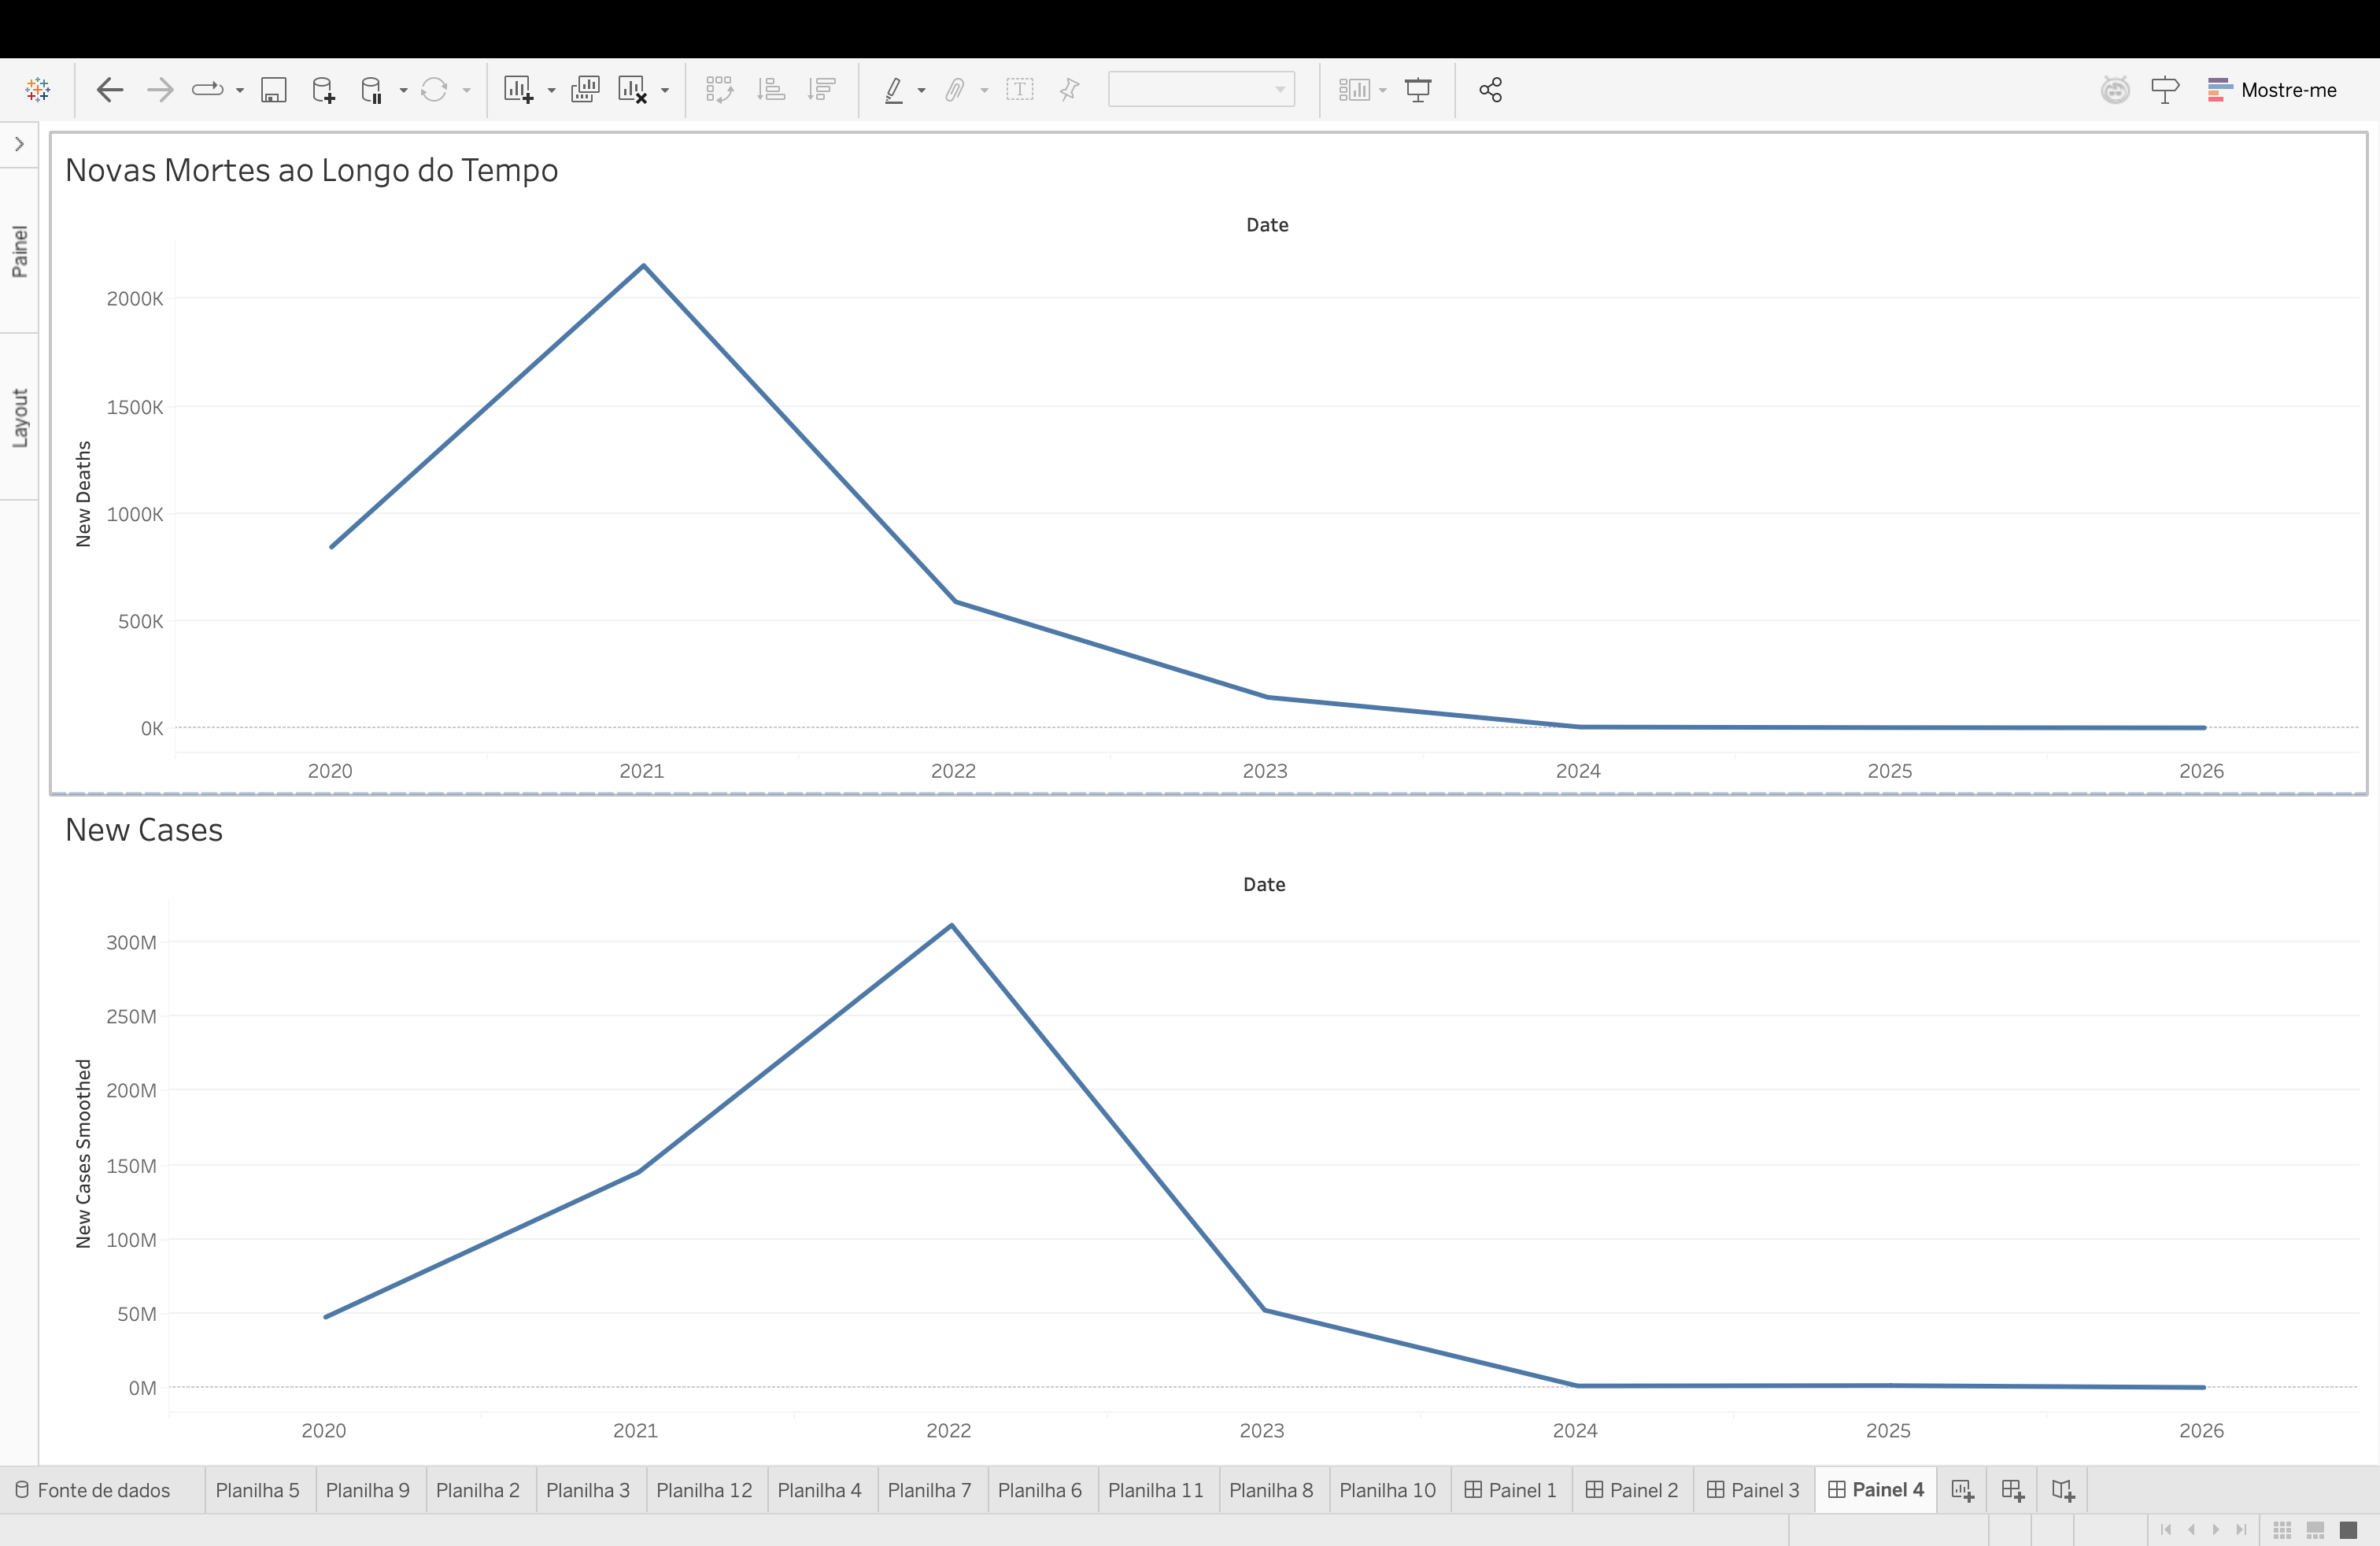

What the dashboard file says about the page in this screenshot:
{"tool":"tableau","page":{"name":"Painel 4","canvas":[1000,1000],"units":"permille","ordinal":3},"visuals":[{"type":"worksheet","title":"Planilha 12","mark":"Automatic","rows":["new_deaths"],"cols":["date"],"box":[5.4,9.4,989.2,490.6]},{"type":"worksheet","title":"Planilha 3","mark":"Line","rows":["new_cases_smoothed"],"cols":["date"],"box":[5.4,500,989.2,490.6]}]}

Visuals, with their boxes on the dashboard's canvas, which has no fixed pixel size, in thousandths of its width and height (x1, y1, x2, y2). These are canvas units, not pixel positions in the 2380x1546 screenshot, which may show the page scaled, cropped or inside an application window:
"Planilha 12" worksheet: box=[5, 9, 995, 500]
"Planilha 3" worksheet (Line marks): box=[5, 500, 995, 991]
